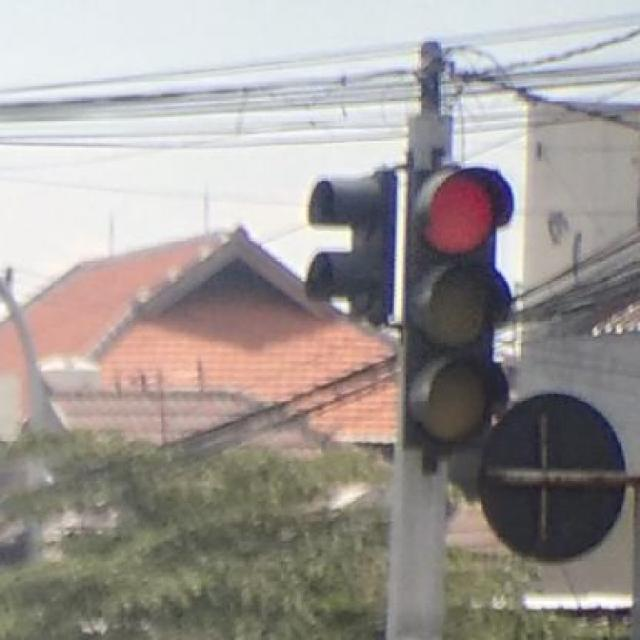traffic light: (408, 169, 514, 448)
